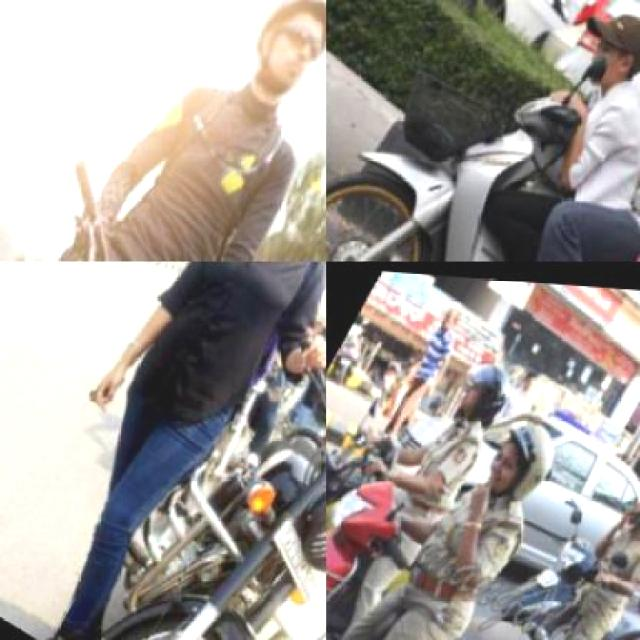With Helmet: (465, 394, 573, 521), (228, 0, 324, 111), (440, 340, 525, 442), (611, 451, 638, 546)
